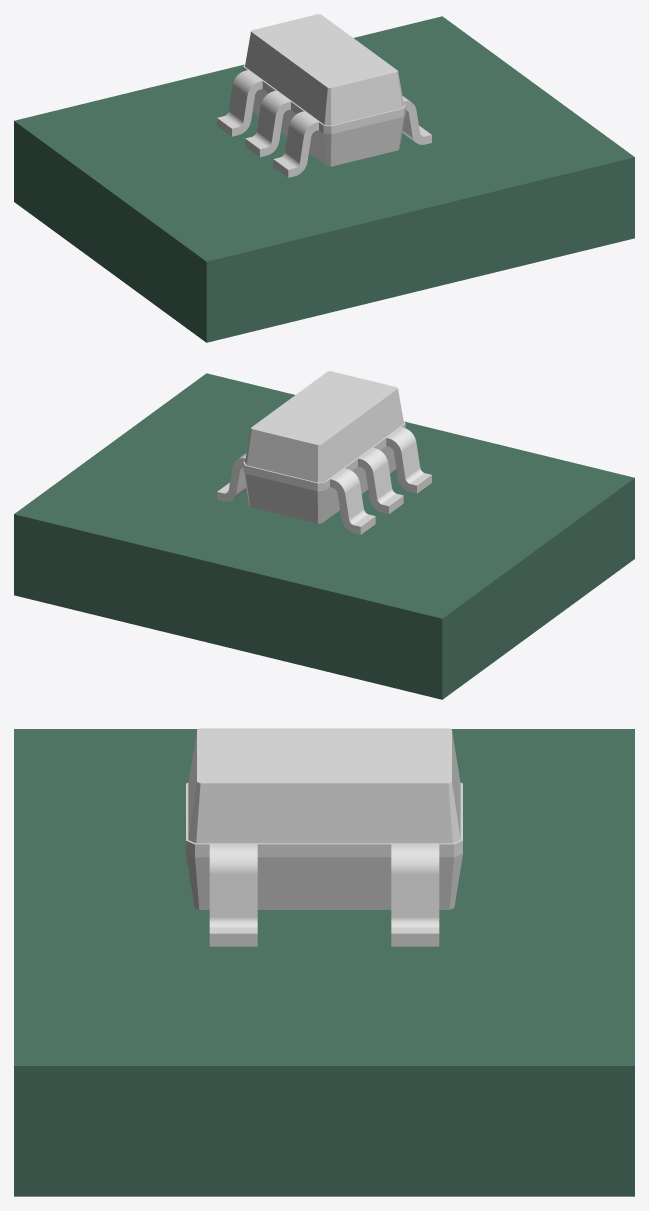
File: Package_TO_SOT_SMD_SOT-23-5.glb
3 renders of one model, top to bottom at view 1: azimuth 30°, elevation 25°; view 2: azimuth 150°, elevation 25°; view 3: azimuth 270°, elevation 25°, orthographic. The views are drawn at different scales.
Visible parts, largest first — view 1: =>[0:1:1:3], REF**; view 2: =>[0:1:1:3], REF**; view 3: =>[0:1:1:3], REF**.
Boxes of the visible parts, x1=… form: =>[0:1:1:3]: x1=14, y1=16, x2=634, y2=342; REF**: x1=217, y1=14, x2=431, y2=177; =>[0:1:1:3]: x1=14, y1=373, x2=634, y2=699; REF**: x1=217, y1=371, x2=431, y2=534; =>[0:1:1:3]: x1=14, y1=729, x2=634, y2=1196; REF**: x1=186, y1=728, x2=462, y2=946.
Bounding box in the file's own units: 0.00835 × 0.00315 × 0.0065.
